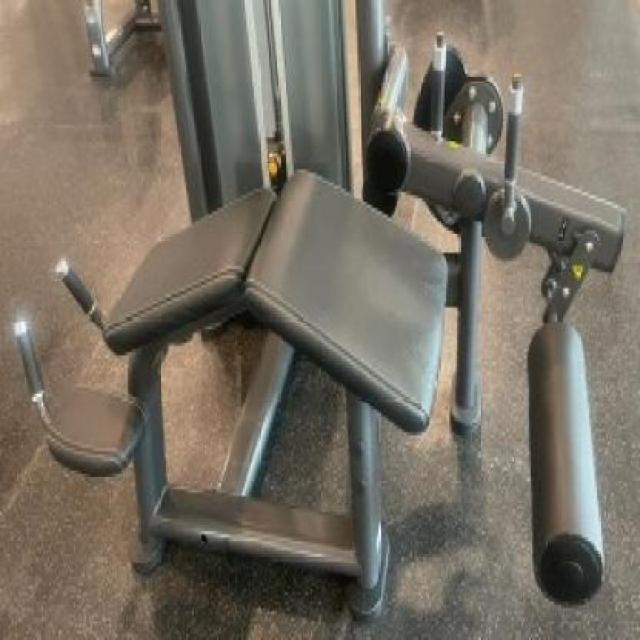reg curl machine: (12, 0, 631, 629)
